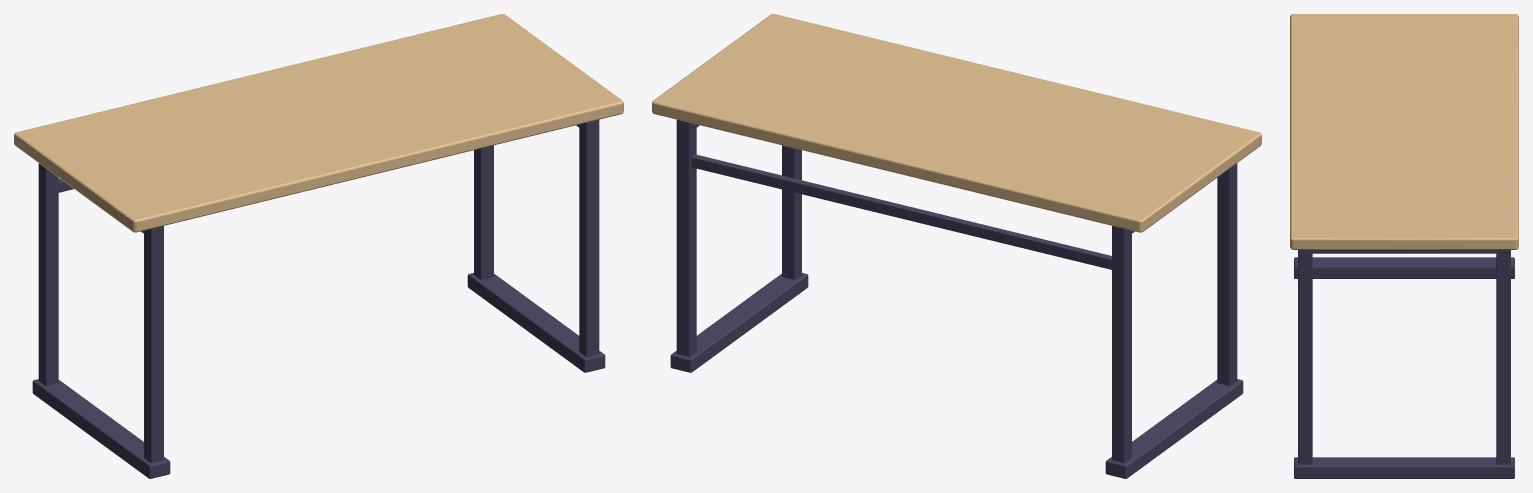
Rendered from desk_wide.glb.
3 renders of one model, left to right at view 1: azimuth 30°, elevation 25°; view 2: azimuth 150°, elevation 25°; view 3: azimuth 270°, elevation 25°, orthographic. The views are drawn at different scales.
Parts seen in each view (by area): view 1: desk_wide; view 2: desk_wide; view 3: desk_wide.
Boxes of the visible parts, x1,y1,x2,y2 form: desk_wide: (14, 14, 623, 478); desk_wide: (652, 14, 1261, 478); desk_wide: (1290, 14, 1518, 478).
Bounding box in the file's own units: 1.4 × 0.72 × 0.6.
